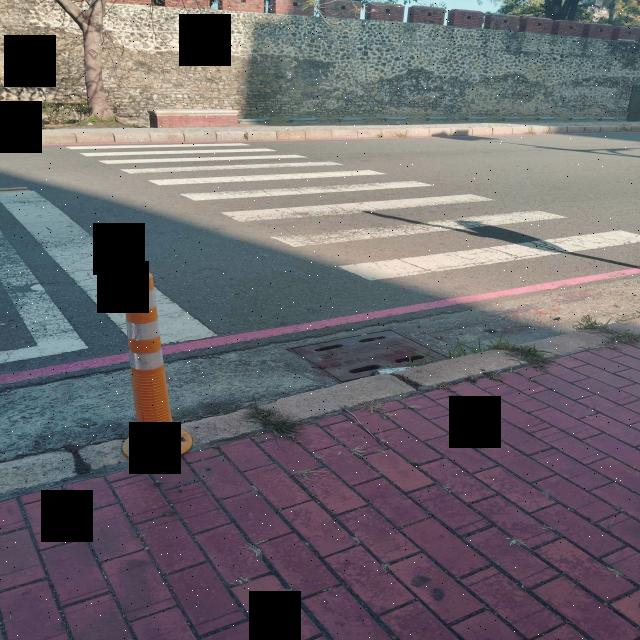zebra crossing: (60, 141, 640, 286)
